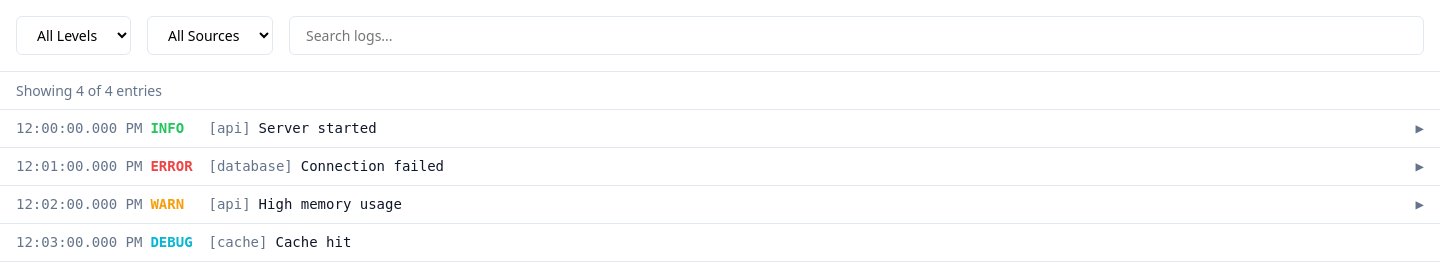
Test: LogViewer › filters by log level
The image size is (1440, 279).
Expected: the text "Showing 4 of 4 entries" is shown, [0,72,1439,110]
# Filter by error level
Select "ERROR" in the 1st dropdown showing "All Levels" at [74, 36], box [16,16,131,55]
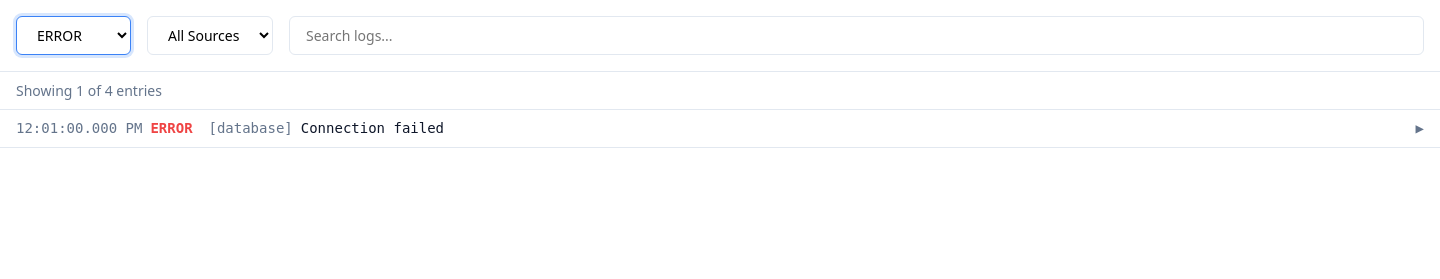
Expected: the text "Connection failed" is shown, [301,120,444,136]
Result: the text "Showing 1 of 4 entries" is shown at [0,72,1439,110]
Result: the button "Server started" is gone
